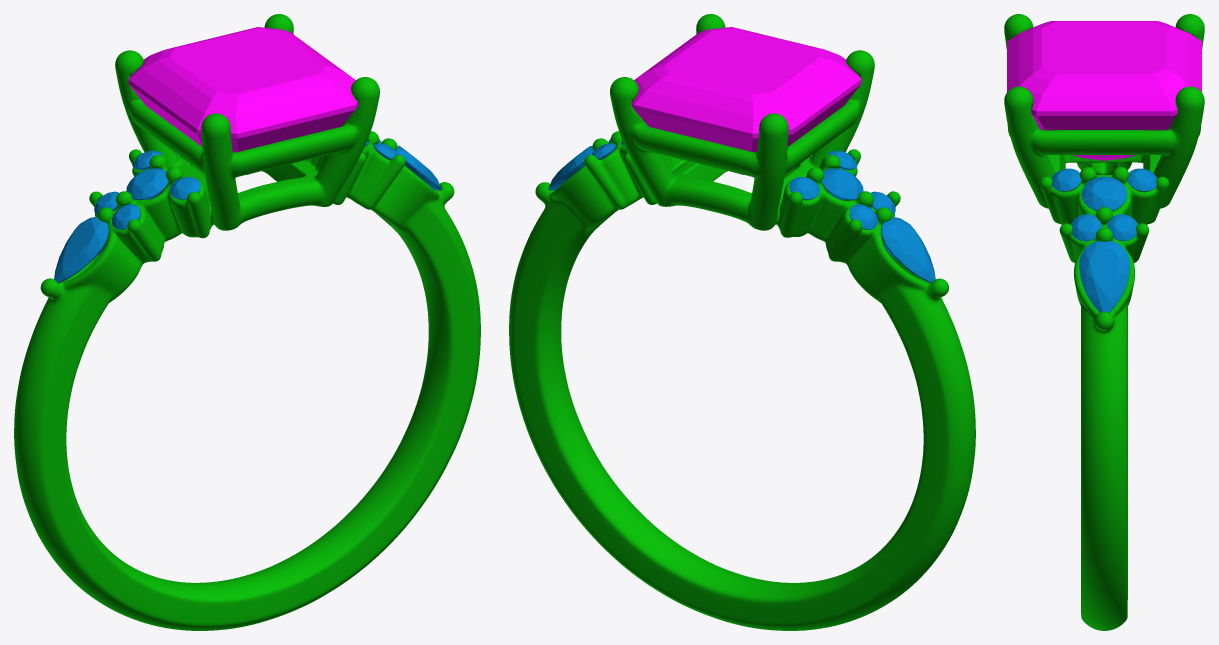
Rendered from BE1D3300_AS_200ct_RENDER.glb.
3 views of the same model, side by side, from view 1: azimuth 30°, elevation 25°; view 2: azimuth 150°, elevation 25°; view 3: azimuth 270°, elevation 25° (orthographic).
Visible parts, largest first — view 1: Metal 01, CS_Diamond_Asscher, Diamond_Pear_Gem_HD.001, Diamond_Round_Gem_HD.009, Diamond_Pear_Gem_HD; view 2: Metal 01, CS_Diamond_Asscher, Diamond_Pear_Gem_HD.001, Diamond_Round_Gem_HD.009, Diamond_Pear_Gem_HD; view 3: Metal 01, CS_Diamond_Asscher, Diamond_Pear_Gem_HD, Diamond_Round_Gem_HD, Diamond_Round_Gem_HD.002, Diamond_Round_Gem_HD.001, Diamond_Round_Gem_HD.004, Diamond_Round_Gem_HD.003.
Part boxes in pixels (x1,y1,x2,y2): Metal 01: (14,14,480,630); CS_Diamond_Asscher: (128,27,358,174); Diamond_Pear_Gem_HD.001: (54,217,108,283); Diamond_Round_Gem_HD.009: (126,168,168,199); Diamond_Pear_Gem_HD: (396,145,441,190); Metal 01: (509,14,975,630); CS_Diamond_Asscher: (631,27,861,174); Diamond_Pear_Gem_HD.001: (881,217,935,283); Diamond_Round_Gem_HD.009: (821,168,863,199); Diamond_Pear_Gem_HD: (548,145,593,190); Metal 01: (1004,14,1204,630); CS_Diamond_Asscher: (1007,21,1201,160); Diamond_Pear_Gem_HD: (1079,240,1129,312); Diamond_Round_Gem_HD: (1081,176,1127,210); Diamond_Round_Gem_HD.002: (1071,214,1101,241); Diamond_Round_Gem_HD.001: (1107,214,1137,241); Diamond_Round_Gem_HD.004: (1127,168,1157,191); Diamond_Round_Gem_HD.003: (1051,168,1081,191).
Size of the model in its own units: 20.34 by 23.73 by 7.73.
